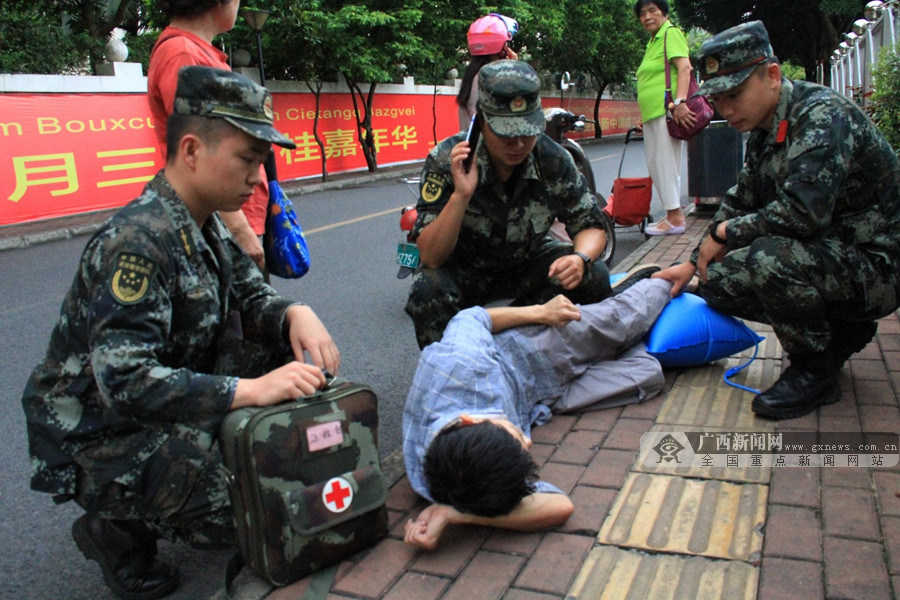fall: (379, 236, 715, 566)
